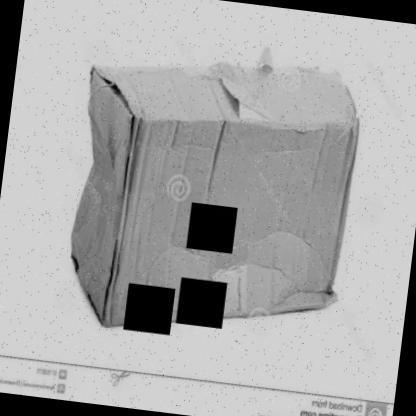box: (48, 28, 373, 354)
